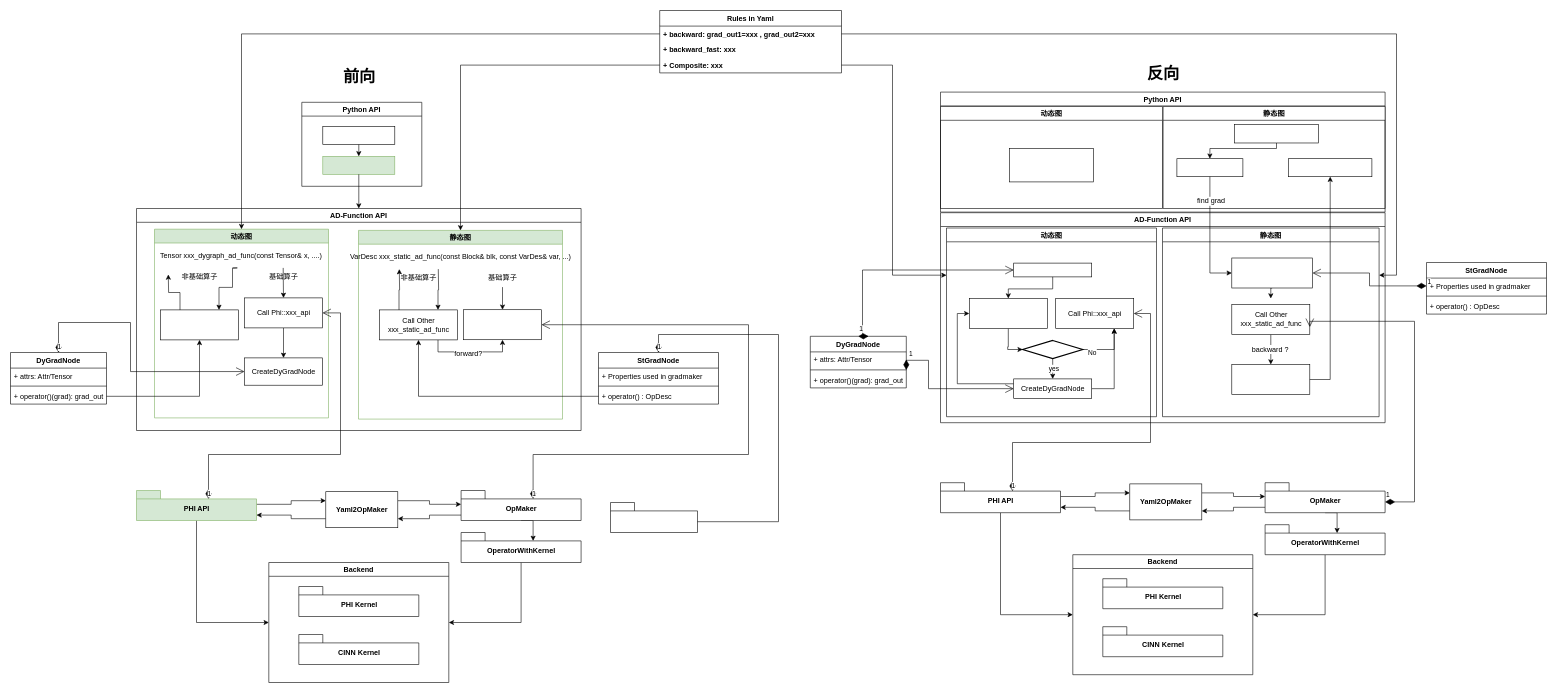
Image size: 1557x693. Some labels were removed from this diagram. Here are the shapes that lost their labels. From the top down, the centre of each, then its label:
(358,135): paddle.xxx
(1276,133): paddle.static.gradients
(358,165): _C_ops.xxx
(1051,165): Autograd backward/Grad
(1209,167): Scan forward ops
(1330,167): Prepare backward graph
(1052,269): CallDyGradNode
(1271,272): CallStGradNode
(199,324): Call Other xxx_dygraph_ad_func
(502,324): Call block.append_op
(1008,313): Call Prime xxx_dygraph_ad_func
(1052,349): require_grad?
(1270,379): Call block.create_operator ( Forward PrimOp )
(654,517): RegisterStGradNode
